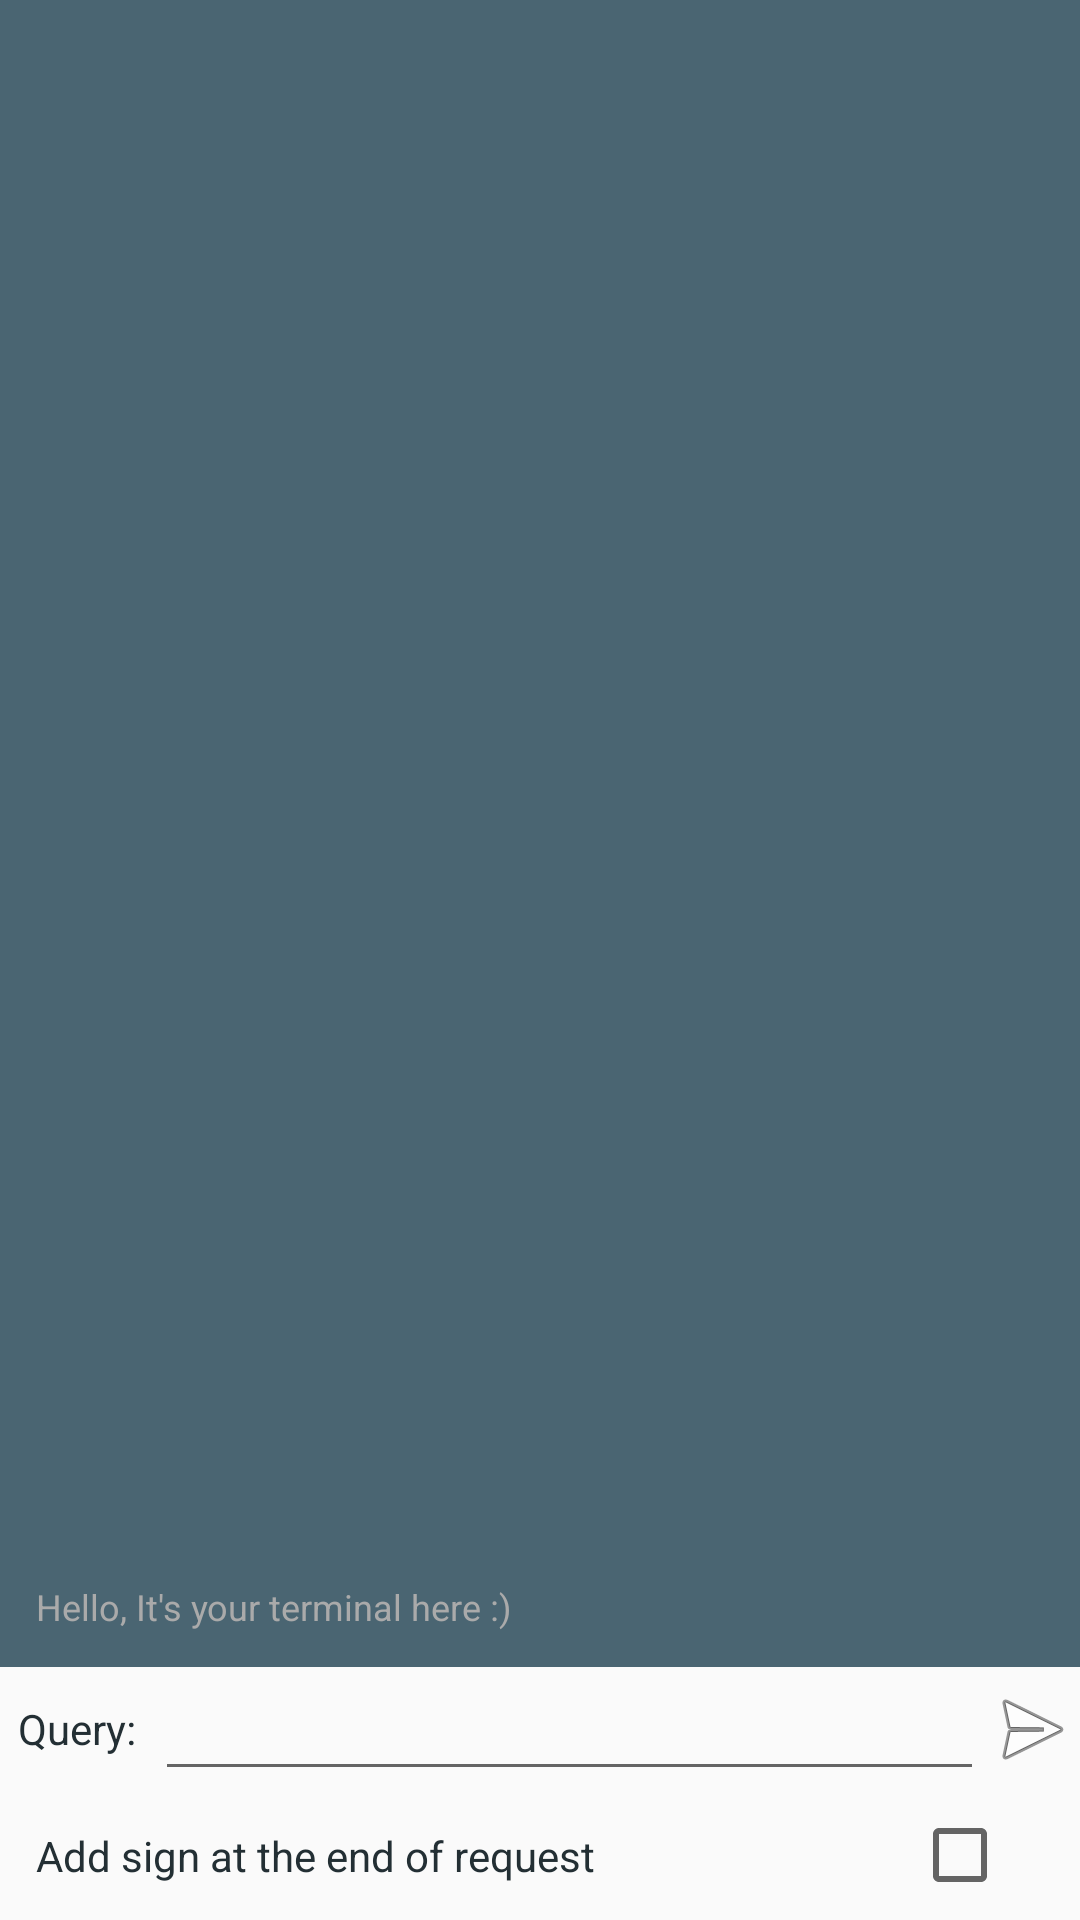

Icons on this 1080px×1920px Android screen, each with its box as region(x1, y1, x2, y2):
send: region(1002, 1699, 1064, 1760)
